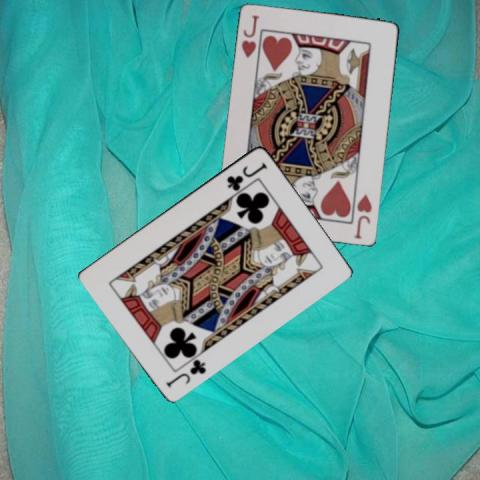Jc: (163, 356, 208, 389), (223, 160, 269, 192)
Jh: (352, 191, 374, 241), (238, 13, 260, 60)
